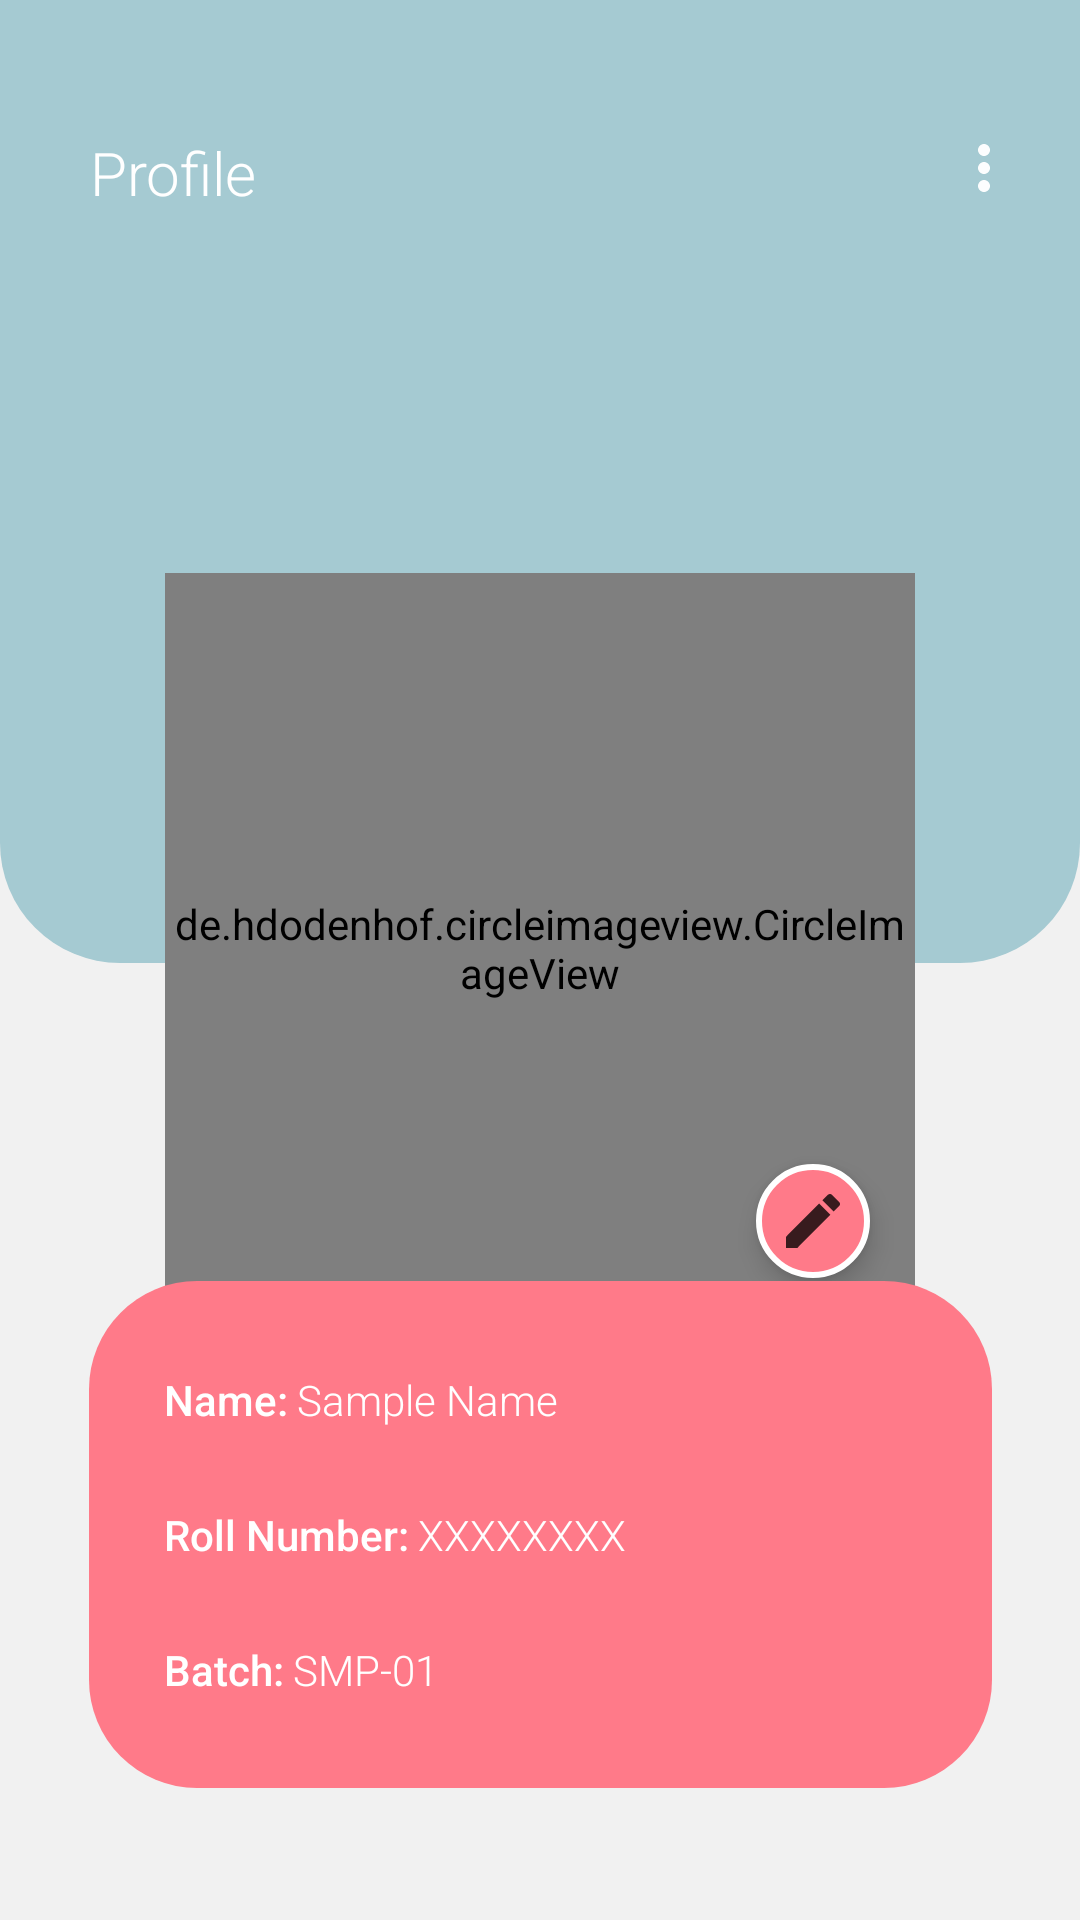

Icon bounding boxes for this 1080w x 1920h phone screenshot, format (x1=x1, y1=y1, x2=x2, y2=y2):
mode edit: (x1=756, y1=1164, x2=870, y2=1278)
more: (x1=978, y1=144, x2=990, y2=192)
